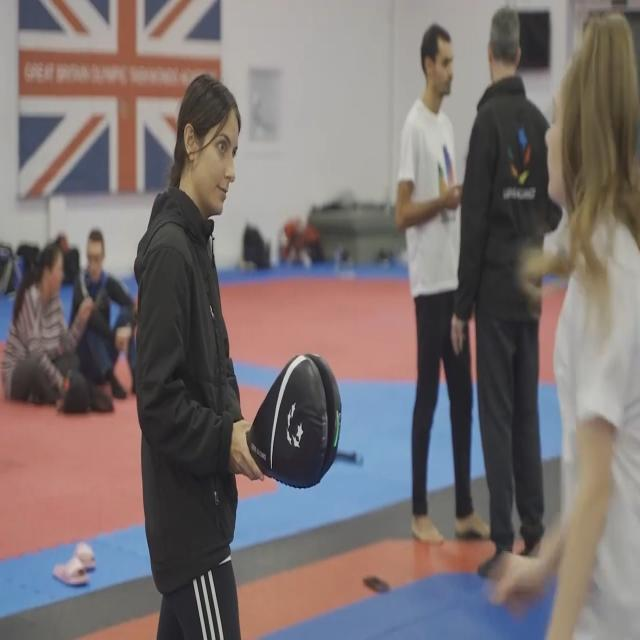paddle: (245, 348, 345, 492)
